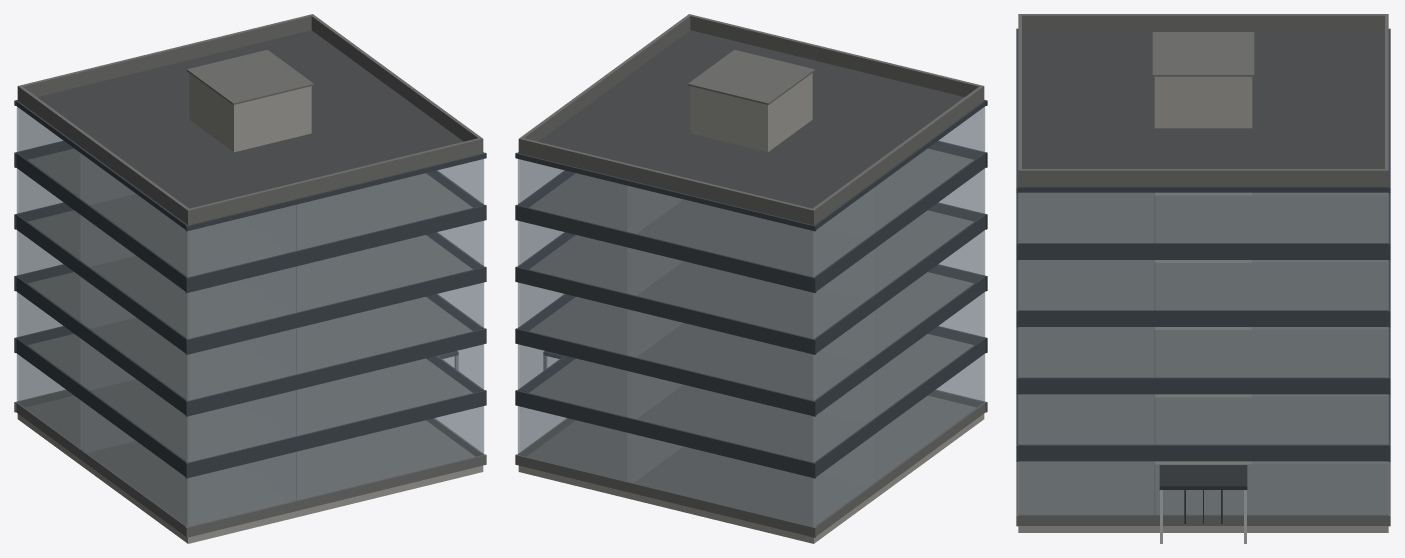
The model's file is tower_LOD1.glb.
3 views of the same model, side by side, from view 1: azimuth 30°, elevation 25°; view 2: azimuth 150°, elevation 25°; view 3: azimuth 270°, elevation 25° (orthographic). The views are drawn at different scales.
Parts seen in each view (by area): view 1: Facade_North_LOD1, Facade_East_LOD1, Roof_LOD1, Slab_F1_LOD1, Slab_F2_LOD1, Slab_F5_LOD1, Slab_F3_LOD1, Slab_F4_LOD1, Zone_F1-East_LOD1, Core_LOD1, Zone_F2-East_LOD1, Zone_F3-East_LOD1 (+14 smaller); view 2: Facade_South_LOD1, Facade_East_LOD1, Roof_LOD1, Slab_F1_LOD1, Slab_F2_LOD1, Slab_F4_LOD1, Slab_F3_LOD1, Slab_F5_LOD1, Zone_F1-South_LOD1, Zone_F2-South_LOD1, Zone_F3-South_LOD1, Zone_F4-South_LOD1 (+14 smaller); view 3: Facade_West_LOD1, Roof_LOD1, Slab_F1_LOD1, Slab_F2_LOD1, Slab_F3_LOD1, Slab_F4_LOD1, Slab_F5_LOD1, Zone_F3-West_LOD1, Zone_F4-West_LOD1, Zone_F5-West_LOD1, Core_LOD1, Zone_F2-West_LOD1 (+9 smaller).
Boxes of the visible parts, box(x1,y1,x2,y2) form: Facade_North_LOD1: box(185, 152, 486, 537); Facade_East_LOD1: box(16, 100, 187, 535); Roof_LOD1: box(17, 14, 483, 225); Slab_F1_LOD1: box(17, 396, 483, 543); Slab_F2_LOD1: box(28, 334, 472, 462); Slab_F5_LOD1: box(28, 148, 472, 277); Slab_F3_LOD1: box(28, 272, 472, 400); Slab_F4_LOD1: box(28, 210, 472, 338); Zone_F1-East_LOD1: box(82, 402, 295, 526); Core_LOD1: box(186, 49, 314, 152); Zone_F2-East_LOD1: box(82, 340, 295, 461); Zone_F3-East_LOD1: box(82, 279, 295, 400); Facade_South_LOD1: box(515, 152, 816, 537); Facade_East_LOD1: box(814, 100, 985, 535); Roof_LOD1: box(518, 14, 984, 225); Slab_F1_LOD1: box(518, 396, 984, 543); Slab_F2_LOD1: box(529, 334, 973, 462); Slab_F4_LOD1: box(529, 210, 973, 338); Slab_F3_LOD1: box(529, 272, 973, 400); Slab_F5_LOD1: box(529, 148, 973, 277); Zone_F1-South_LOD1: box(629, 434, 874, 526); Zone_F2-South_LOD1: box(629, 372, 874, 461); Zone_F3-South_LOD1: box(629, 310, 874, 400); Zone_F4-South_LOD1: box(629, 248, 874, 338); Facade_West_LOD1: box(1018, 186, 1388, 525); Roof_LOD1: box(1018, 14, 1388, 186); Slab_F1_LOD1: box(1018, 461, 1388, 532); Slab_F2_LOD1: box(1018, 394, 1388, 444); Slab_F3_LOD1: box(1018, 327, 1388, 377); Slab_F4_LOD1: box(1018, 260, 1388, 310); Slab_F5_LOD1: box(1018, 192, 1388, 242); Zone_F3-West_LOD1: box(1156, 327, 1387, 376); Zone_F4-West_LOD1: box(1156, 260, 1387, 309); Zone_F5-West_LOD1: box(1156, 193, 1387, 242); Core_LOD1: box(1152, 32, 1254, 464); Zone_F2-West_LOD1: box(1156, 395, 1387, 443).
Bounding box in the file's own units: 21.77 × 22.7 × 19.2.
